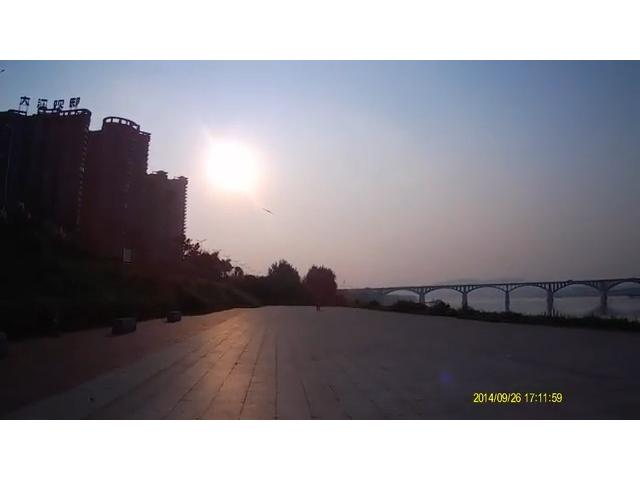Anti-Drone: (252, 200, 286, 218)
